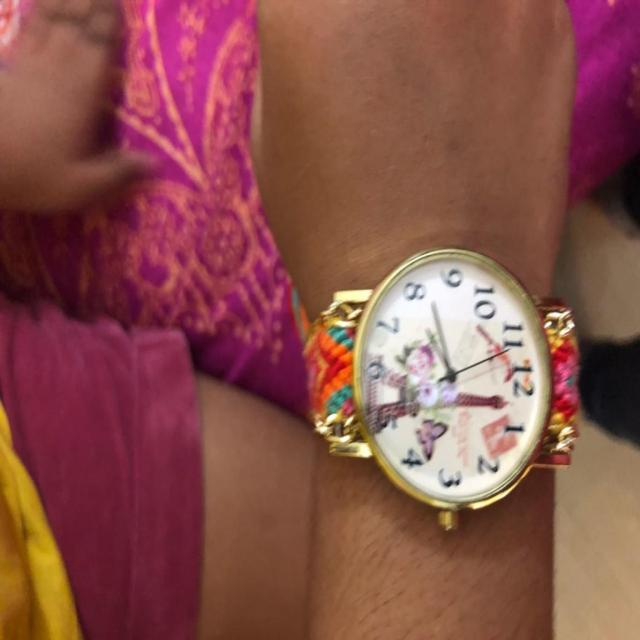Wrist watch: (301, 249, 581, 539)
